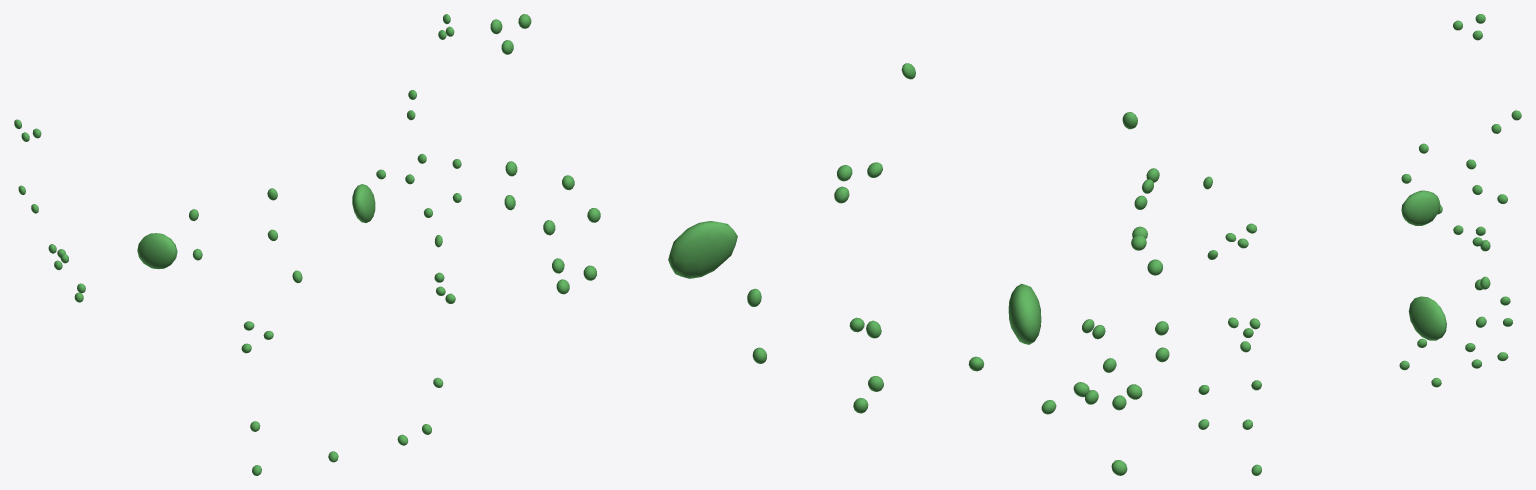
File: lymphatic.head.glb
The picture shows the model from 3 angles, left to right: view 1: azimuth 30°, elevation 25°; view 2: azimuth 150°, elevation 25°; view 3: azimuth 270°, elevation 25°; orthographic projection. The views are drawn at different scales.
Visible parts, largest first — view 1: right_palatine_tonsil, left_palatine_tonsil; view 2: left_palatine_tonsil, right_palatine_tonsil; view 3: left_palatine_tonsil, right_palatine_tonsil.
Boxes of the visible parts, x1,y1,x2,y2 form: right_palatine_tonsil: (137,233,177,269); left_palatine_tonsil: (352,184,375,222); left_palatine_tonsil: (668,221,737,278); right_palatine_tonsil: (1008,283,1041,344); left_palatine_tonsil: (1408,296,1446,340); right_palatine_tonsil: (1401,190,1440,225).
Bounding box in the file's own units: 0.1318 × 0.0891 × 0.0833.
